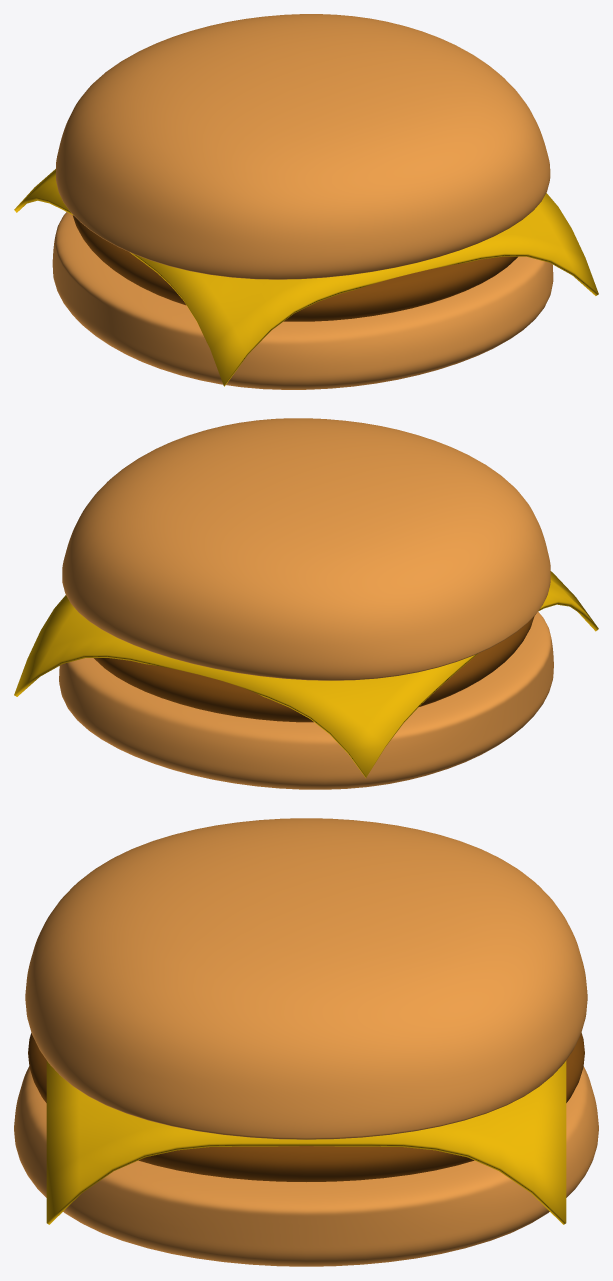
File: hamburger.glb
3 renders of one model, top to bottom at view 1: azimuth 30°, elevation 25°; view 2: azimuth 150°, elevation 25°; view 3: azimuth 270°, elevation 25°, orthographic. The views are drawn at different scales.
Parts seen in each view (by area): view 1: Top Bun, Bottom Bun, Cheese, Meat; view 2: Top Bun, Bottom Bun, Cheese, Meat; view 3: Top Bun, Bottom Bun, Cheese, Meat.
Part boxes in pixels (box(x1,y1,x2,y2)): Top Bun: box(56, 14, 550, 279); Bottom Bun: box(52, 212, 553, 389); Cheese: box(14, 169, 598, 386); Meat: box(72, 215, 517, 321); Top Bun: box(62, 418, 550, 680); Bottom Bun: box(59, 612, 553, 789); Cheese: box(14, 571, 598, 777); Meat: box(94, 616, 534, 722); Top Bun: box(25, 818, 587, 1139); Bottom Bun: box(14, 1066, 598, 1266); Cheese: box(46, 1060, 566, 1224); Meat: box(28, 1033, 584, 1181).
Size of the model in its own units: 9.32 by 5.08 by 9.25.
